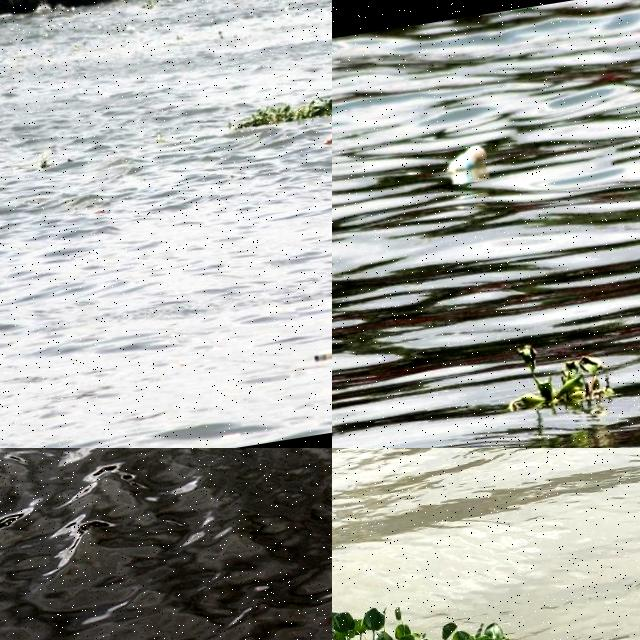plastic bottle: (448, 146, 488, 174)
water-hyacinth: (333, 569, 625, 640), (492, 327, 619, 428), (219, 78, 333, 134)
